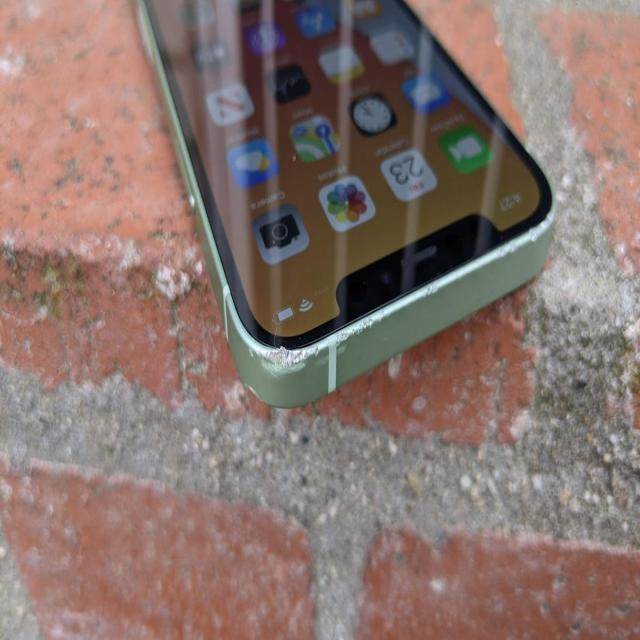Dents: (329, 317, 387, 372), (514, 218, 556, 261), (245, 349, 317, 374), (237, 383, 269, 407), (422, 285, 442, 305)
